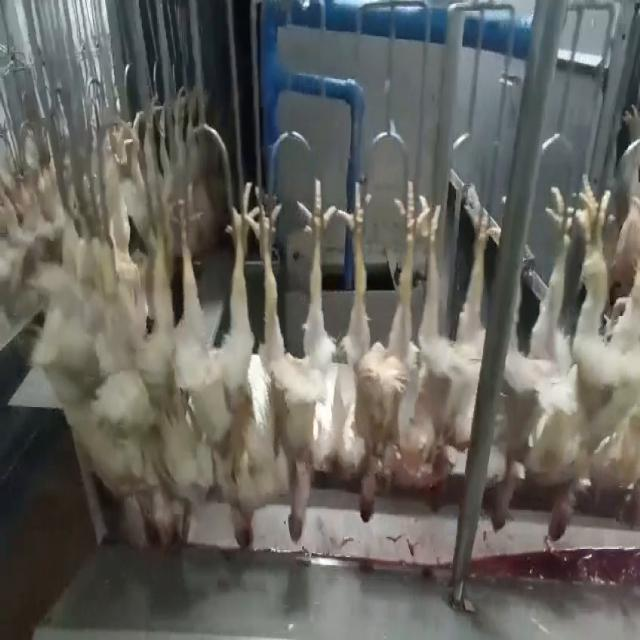chicken: (326, 169, 426, 525), (487, 175, 584, 529), (545, 178, 638, 541), (172, 177, 258, 550), (254, 172, 339, 539), (415, 169, 501, 518), (112, 186, 173, 545)
